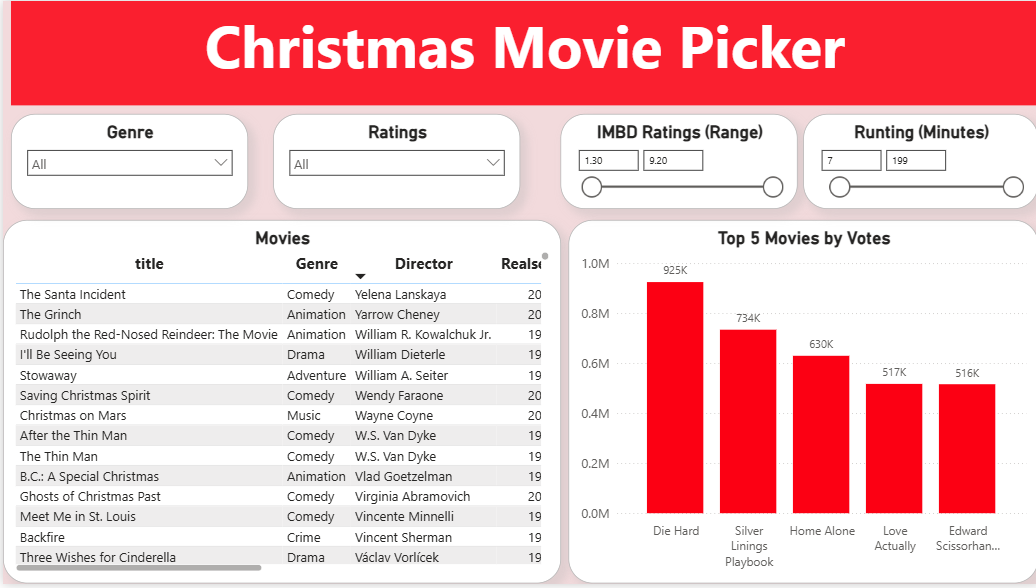

The dashboard page shown, as its layout file describes it:
{"tool":"powerbi","page":{"name":"Page 1","canvas":[1280,720],"ordinal":0},"visuals":[{"type":"textbox","box":[9.6,0,1270.3,128.8],"z":0},{"type":"tableEx","title":"Movies ","fields":{"Values":["christmas_movies.title","christmas_movies.genre.1","christmas_movies.director","christmas_movies.release_year","christmas_movies.votes","christmas_movies.stars"]},"box":[0,270,689.3,449.5],"z":1000},{"type":"clusteredColumnChart","title":"Top 5 Movies by Votes","fields":{"Y":["Sum(christmas_movies.votes)"],"Category":["christmas_movies.title"]},"box":[698.9,270,581,449.5],"z":2000},{"type":"slicer","title":"Genre","fields":{"Values":["christmas_movies.genre.1"]},"box":[9.6,139.8,293.3,117.8],"z":3000},{"type":"slicer","title":"Ratings","fields":{"Values":["christmas_movies.rating"]},"box":[334.4,139.8,305.6,117.8],"z":4000},{"type":"slicer","title":"IMBD Ratings (Range)","fields":{"Values":["christmas_movies.imdb_rating"]},"box":[689.3,139.8,293.3,117.8],"z":5000},{"type":"slicer","title":"Runting (Minutes)","fields":{"Values":["christmas_movies.runtime"]},"box":[989.4,139.8,290.5,117.8],"z":6000}]}

Visuals, with their boxes in screenshot pixels (x1, y1, x2, y2), scaled from the page's 1280x720 canvas onto the 1036x588 screenshot:
textbox: l=8, t=0, r=1035, b=105
"Movies " tableEx: l=0, t=220, r=558, b=587
"Top 5 Movies by Votes" clusteredColumnChart: l=566, t=220, r=1035, b=587
"Genre" slicer: l=8, t=114, r=245, b=210
"Ratings" slicer: l=271, t=114, r=518, b=210
"IMBD Ratings (Range)" slicer: l=558, t=114, r=795, b=210
"Runting (Minutes)" slicer: l=801, t=114, r=1035, b=210
